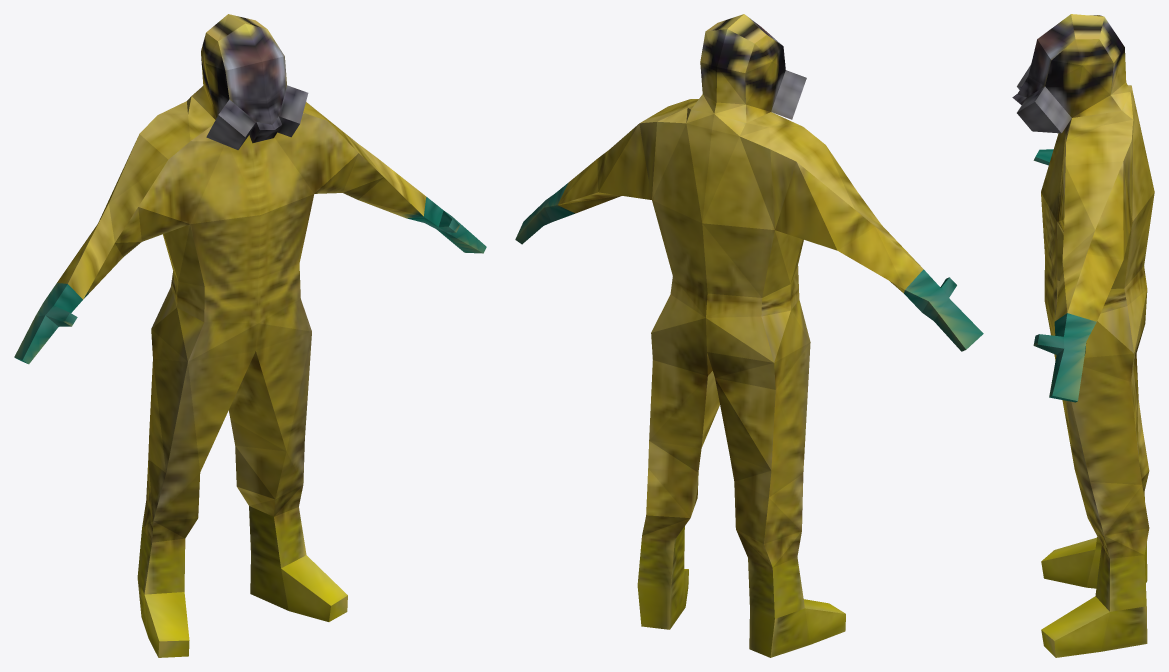
The model's file is hazmat.obj.
3 renders of one model, left to right at view 1: azimuth 30°, elevation 25°; view 2: azimuth 150°, elevation 25°; view 3: azimuth 270°, elevation 25°, orthographic.
Visible parts, largest first — view 1: hazmat_Cube.001; view 2: hazmat_Cube.001; view 3: hazmat_Cube.001.
Part boxes in pixels (x1=…): hazmat_Cube.001: x1=14, y1=14, x2=486, y2=657; hazmat_Cube.001: x1=515, y1=14, x2=983, y2=657; hazmat_Cube.001: x1=1012, y1=14, x2=1154, y2=657.
Size of the model in its own units: 2.08 by 2.6 by 0.56.
Materials: 1 (1 with a texture image).
